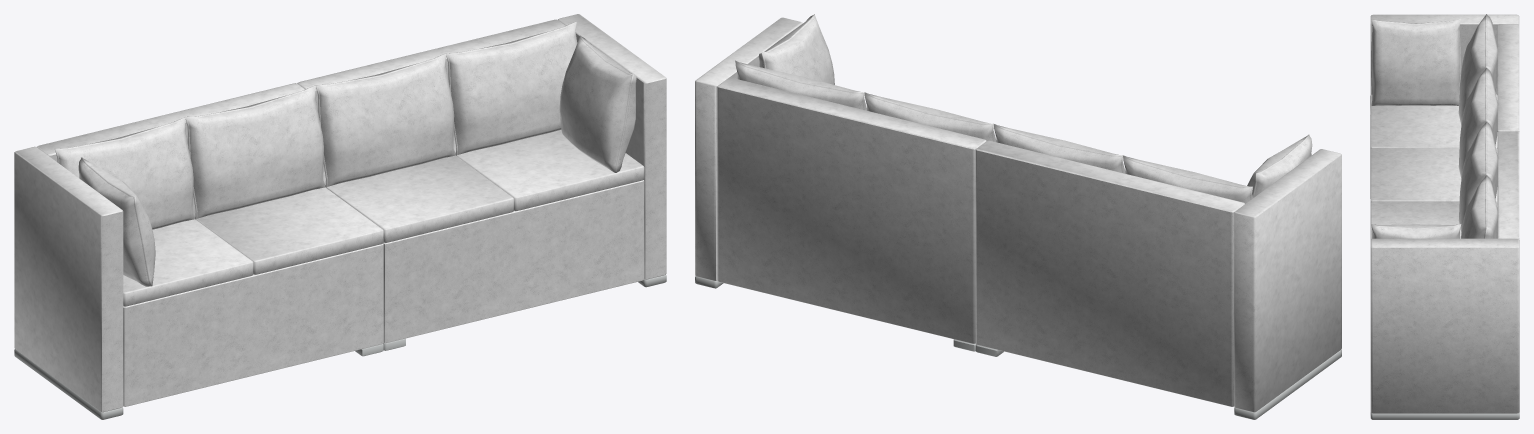
The model's file is Sofa07_2.FBX.
3 views of the same model, side by side, from view 1: azimuth 30°, elevation 25°; view 2: azimuth 150°, elevation 25°; view 3: azimuth 270°, elevation 25° (orthographic). The views are drawn at different scales.
Visible parts, largest first — view 1: Sofa07_1Left, Sofa07_1Right; view 2: Sofa07_1Left, Sofa07_1Right; view 3: Sofa07_1Right, Sofa07_1Left.
Boxes of the visible parts, bbox=[...] form: Sofa07_1Left: bbox=[14, 83, 383, 419]; Sofa07_1Right: bbox=[297, 14, 666, 350]; Sofa07_1Left: bbox=[975, 124, 1341, 419]; Sofa07_1Right: bbox=[695, 14, 996, 351]; Sofa07_1Right: bbox=[1370, 121, 1519, 419]; Sofa07_1Left: bbox=[1370, 14, 1519, 202].
Size of the model in its own units: 311 by 114 by 84.17.
